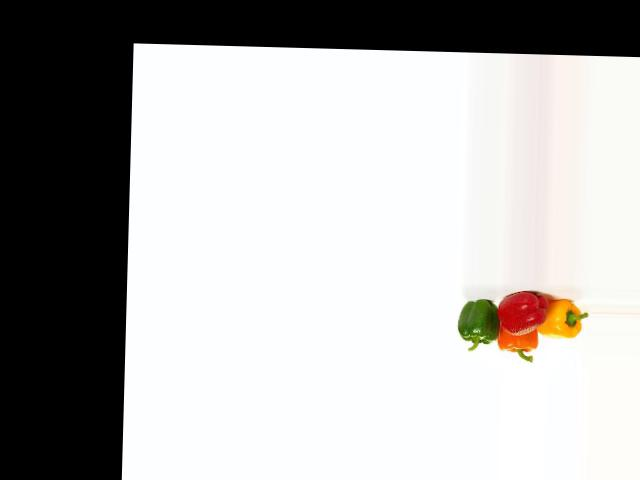bell_pepper: (456, 291, 503, 348)
